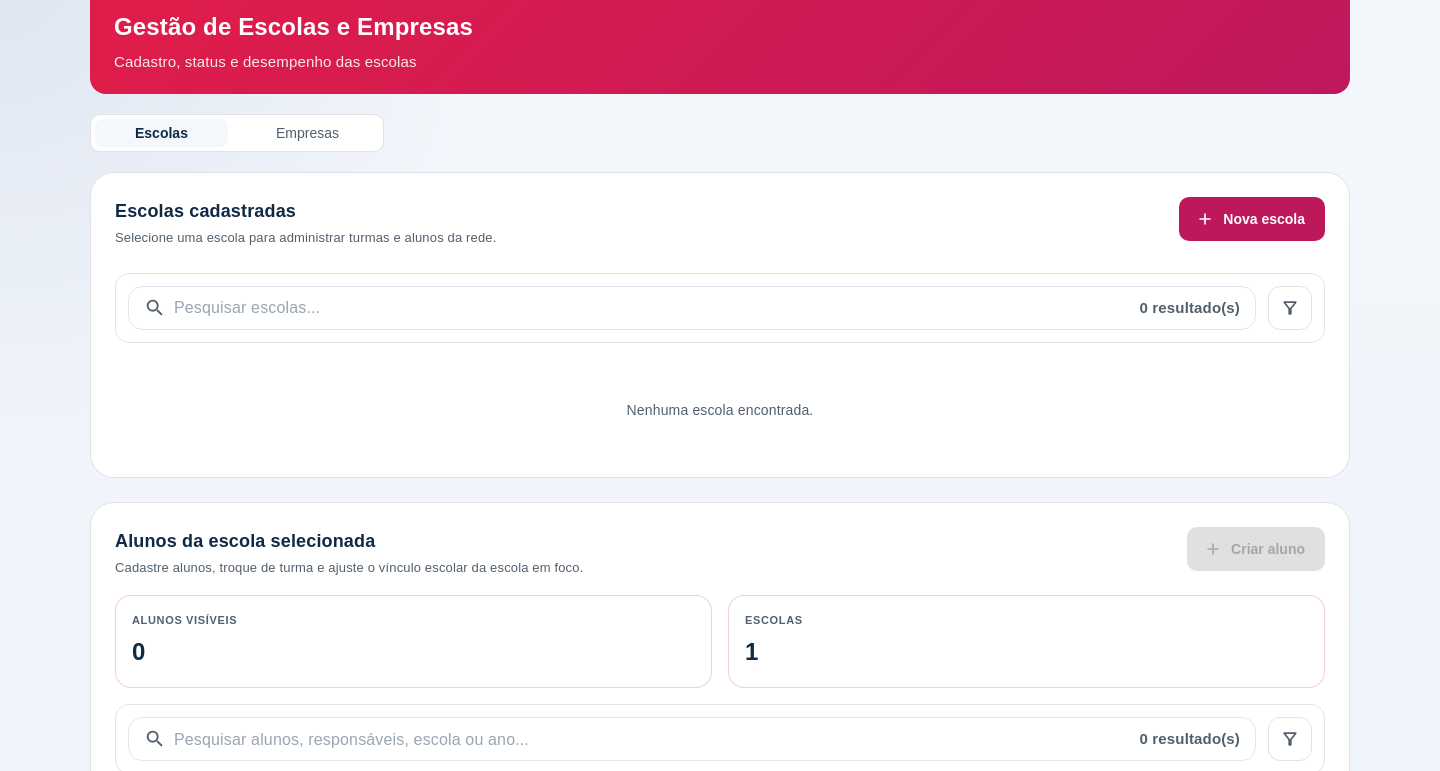
it: SchoolCompanyPage changes company details when another company is selected
Click the button with test id "toggle-empresa". click: {"x": 307, "y": 133}
box: left=236, top=119, right=379, bottom=147
(page scrolled)
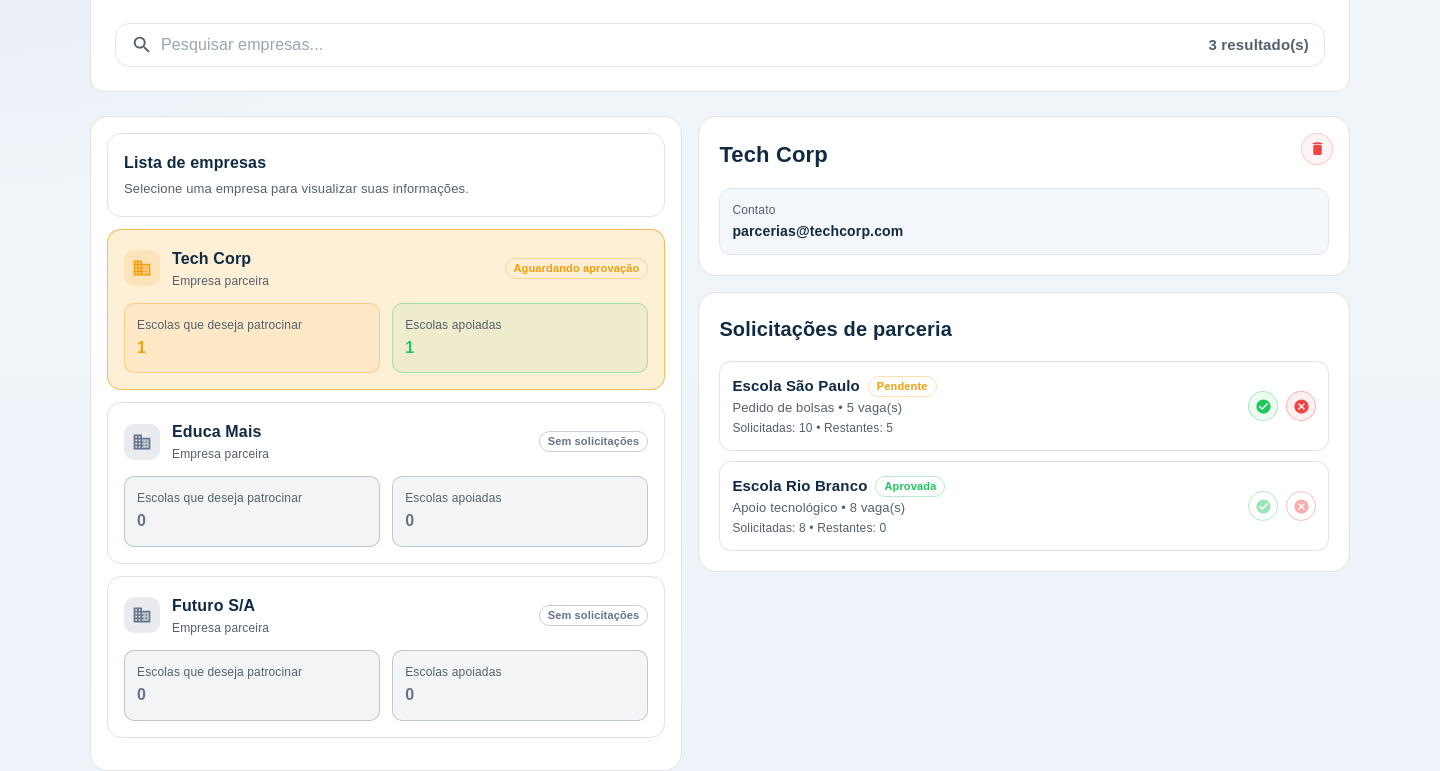
Result: the element with test id "company-item-company-1" is shown at left=107, top=229, right=665, bottom=390
Click the element with test id "company-item-company-2". click: {"x": 386, "y": 657}
box: left=107, top=576, right=665, bottom=738
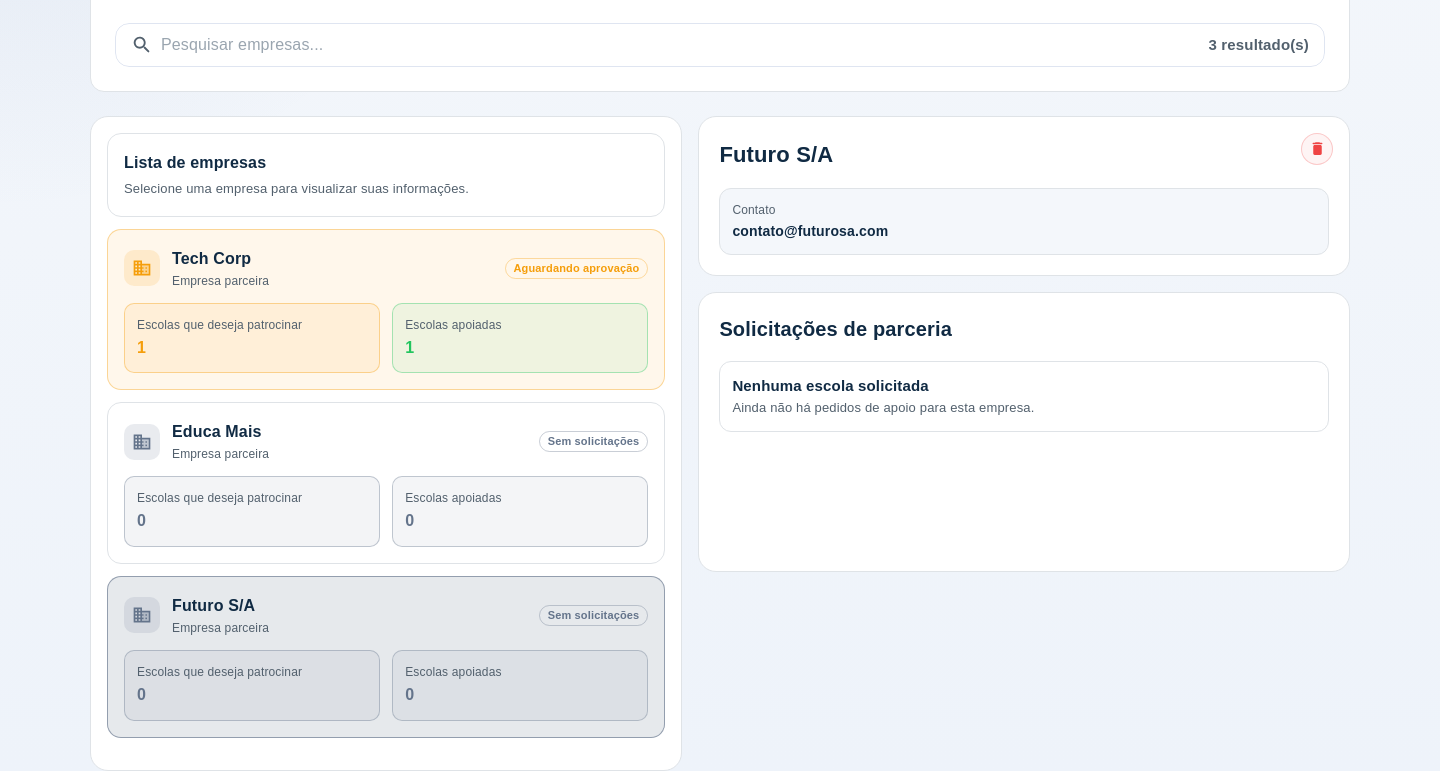
Result: the text "contato@futurosa.com" is shown at left=732, top=223, right=888, bottom=239
